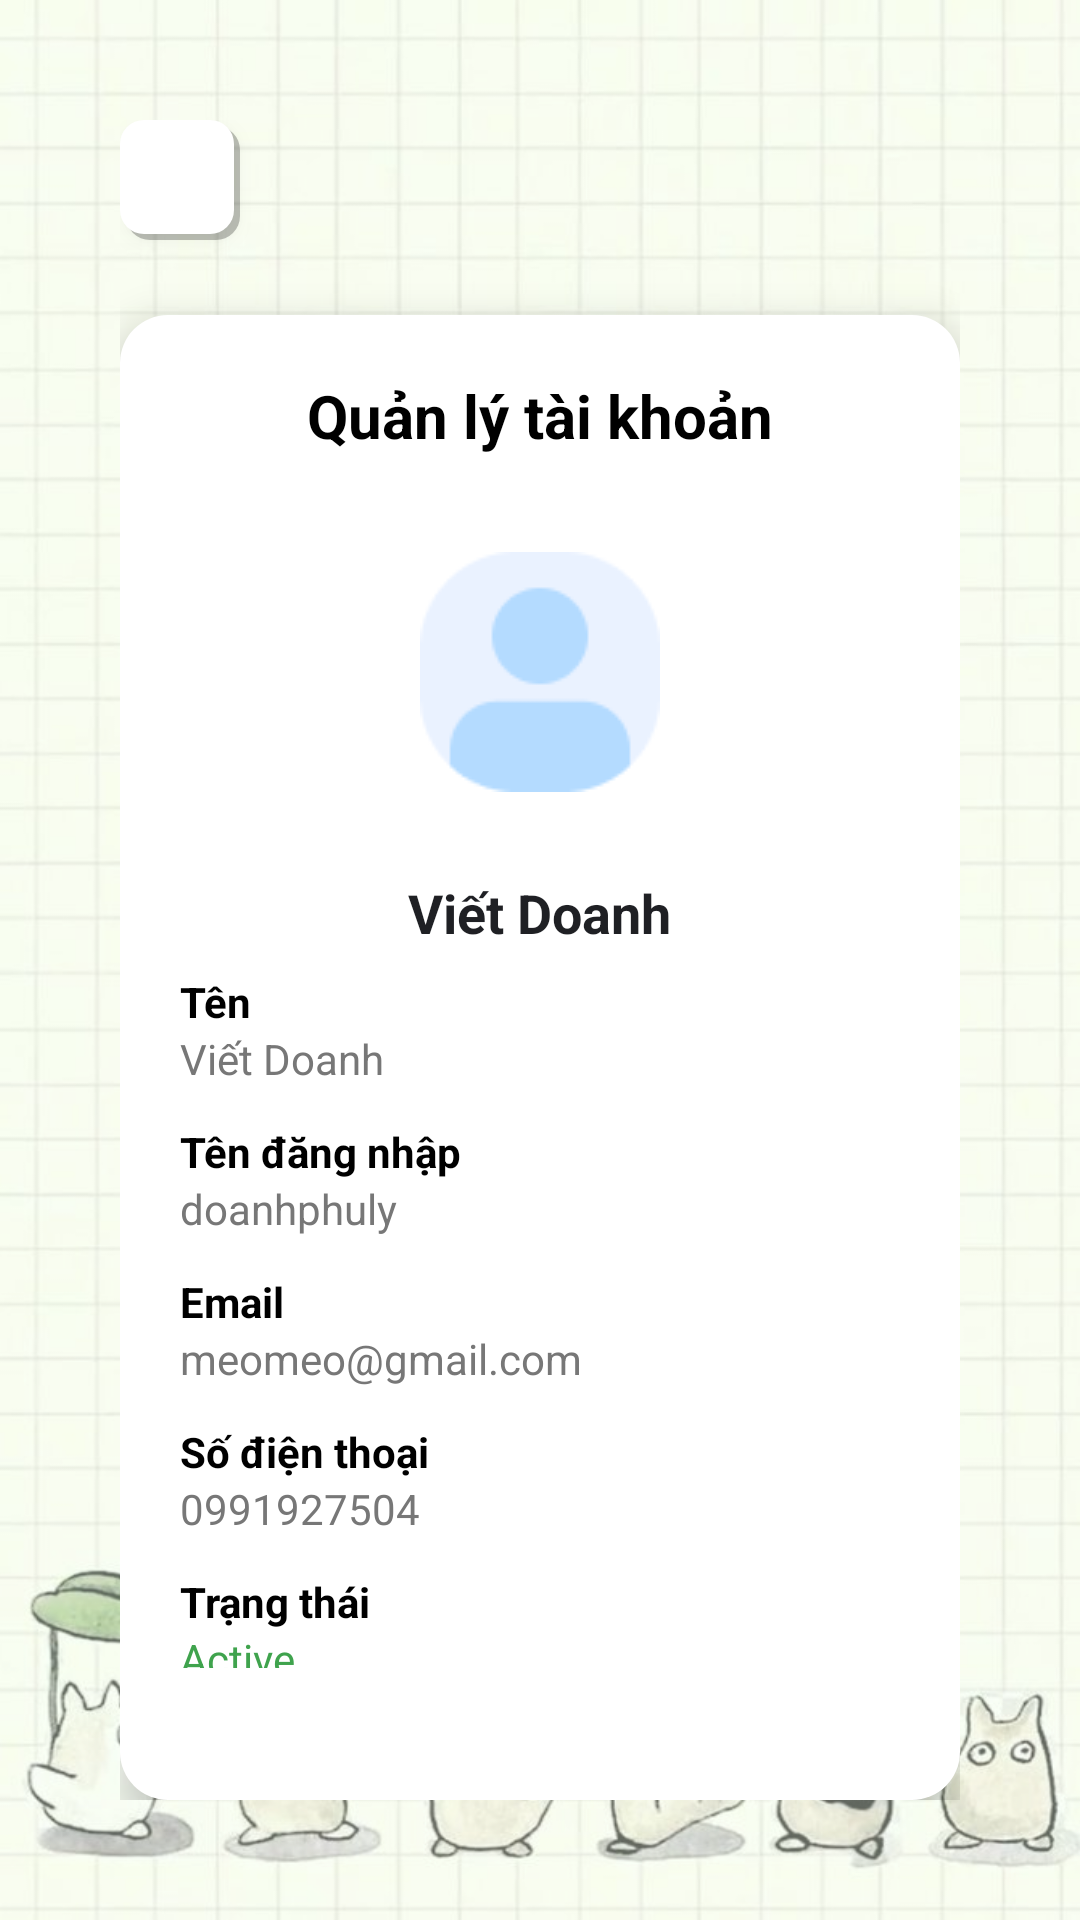

Icons on this 1080×1920 Android screen, each with the point to tap as (x,y):
person: (540,689)
